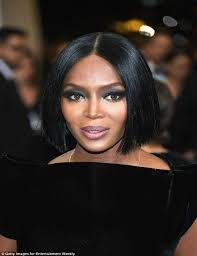black_female: (41, 29, 161, 166)
